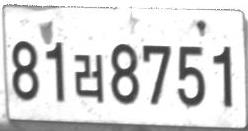1: (210, 46, 241, 107), (43, 42, 71, 102)
5: (177, 45, 205, 106)
7: (142, 45, 171, 104)
8: (110, 43, 139, 105), (11, 40, 39, 101)
러: (74, 54, 103, 103)
